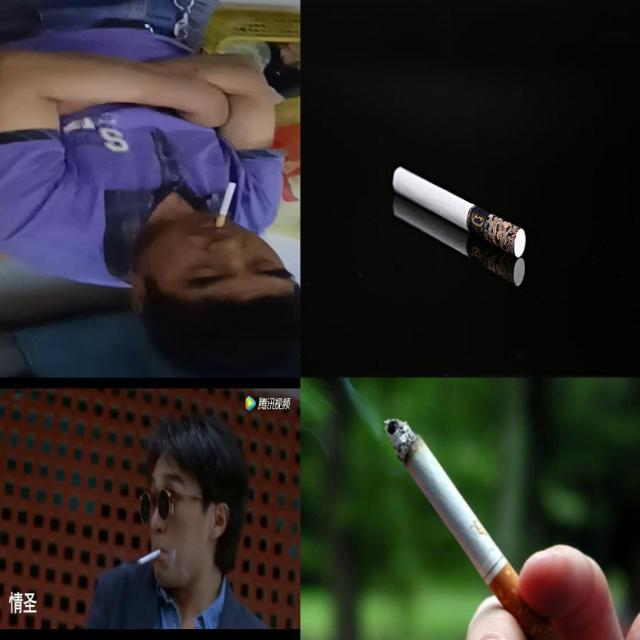smoking: (384, 417, 565, 639), (392, 194, 526, 288), (391, 166, 527, 258), (214, 182, 237, 228), (136, 548, 162, 566)
